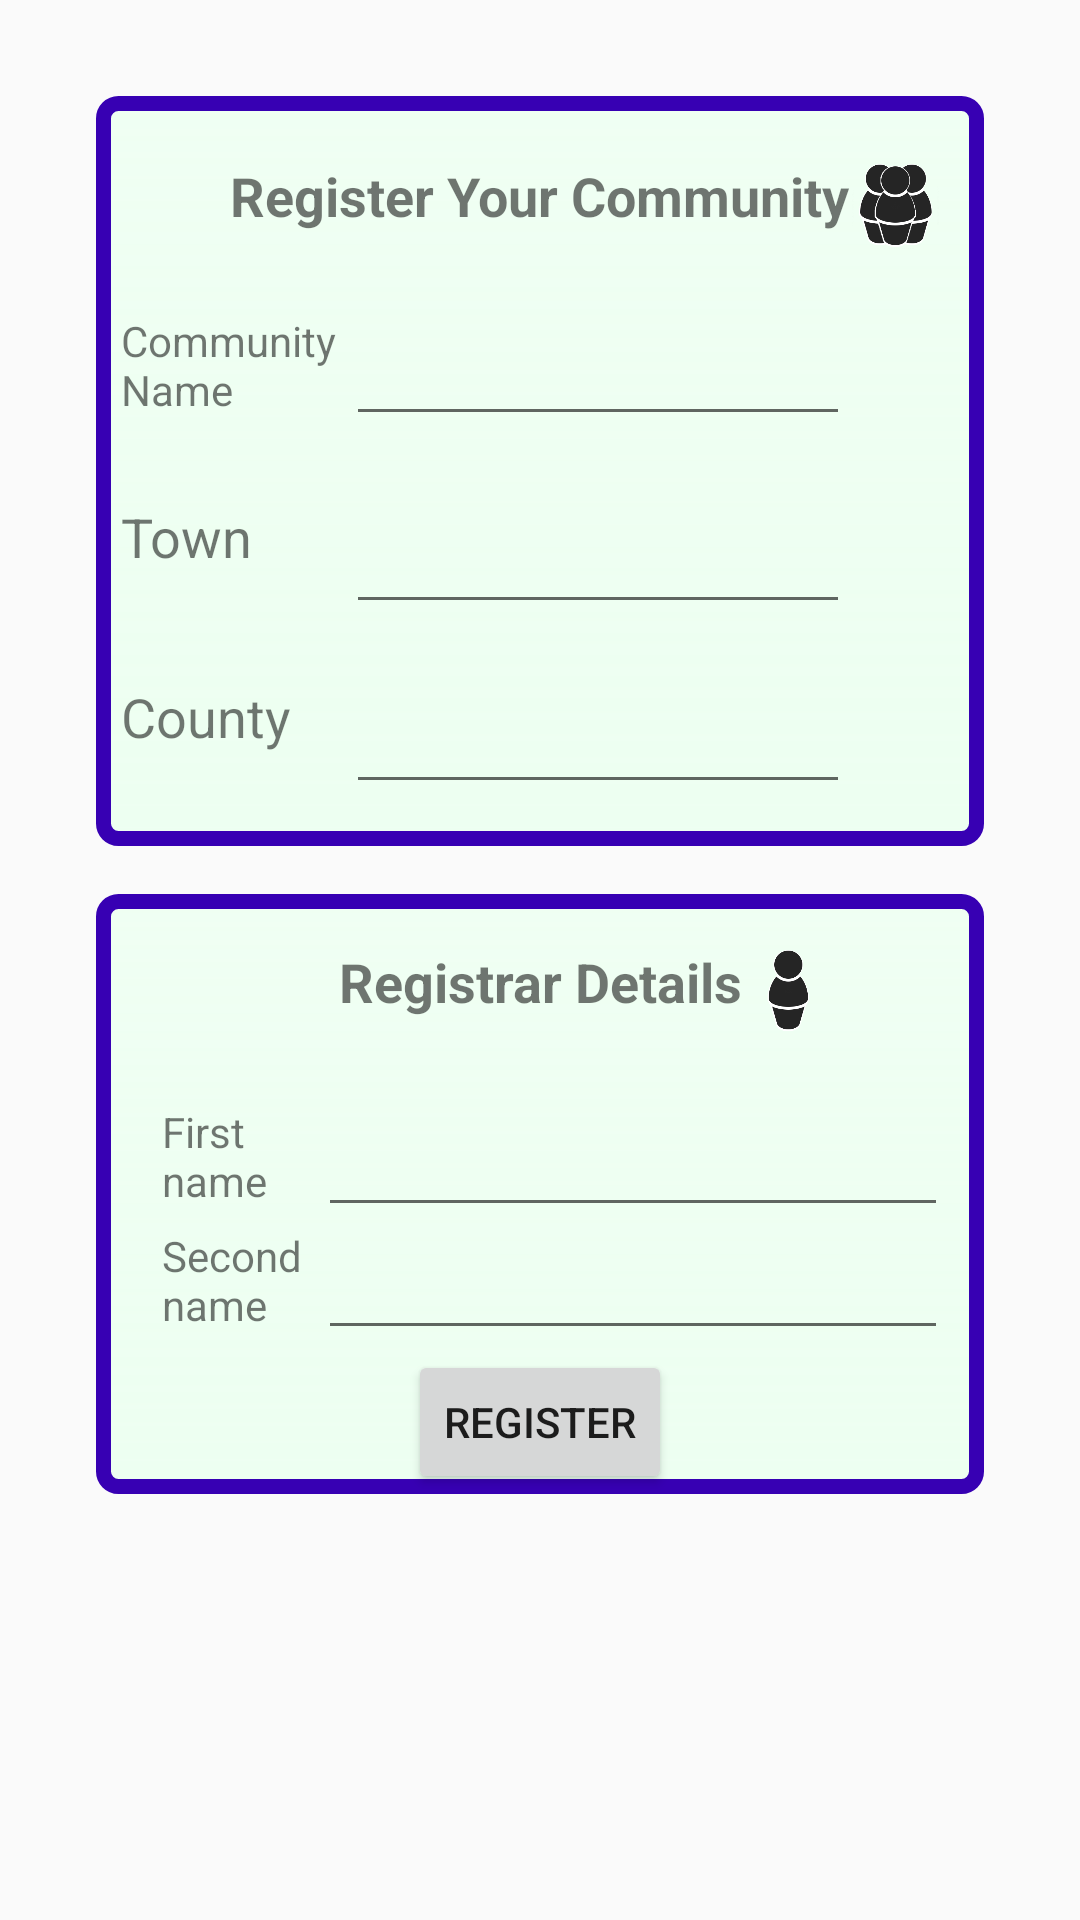

Screen size 1080w x 1920h. Icon name, then its center in pixels as [x,y]:
person: [788,990]
